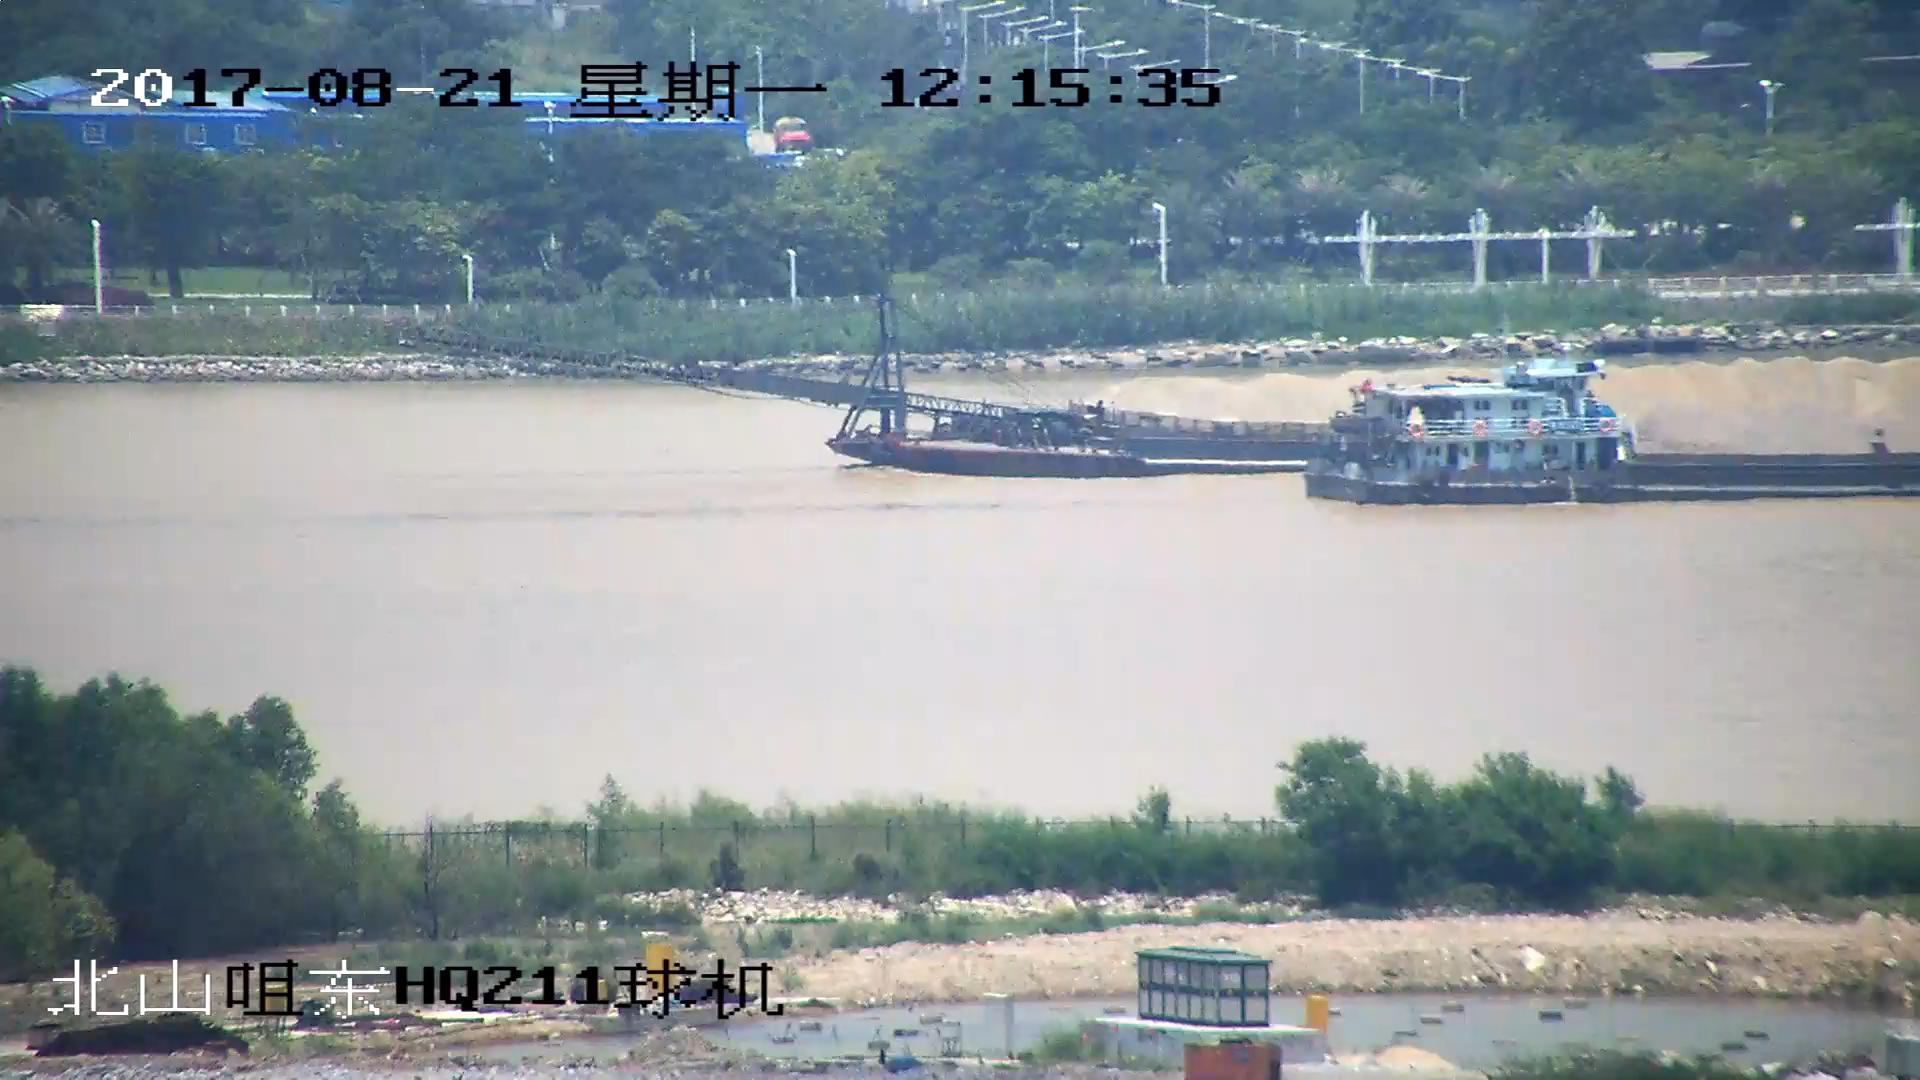ore carrier: (410, 321, 1919, 478), (1313, 391, 1920, 497)
